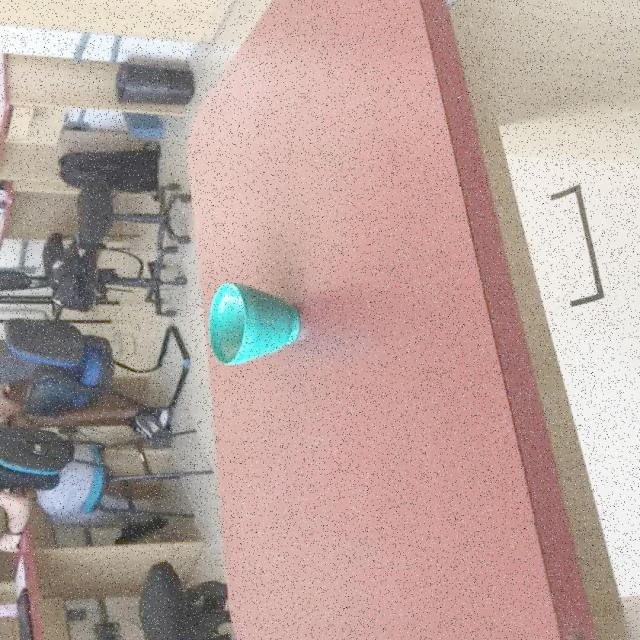Bowl: (208, 282, 302, 365)
